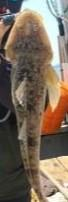fish: (3, 10, 61, 201)
